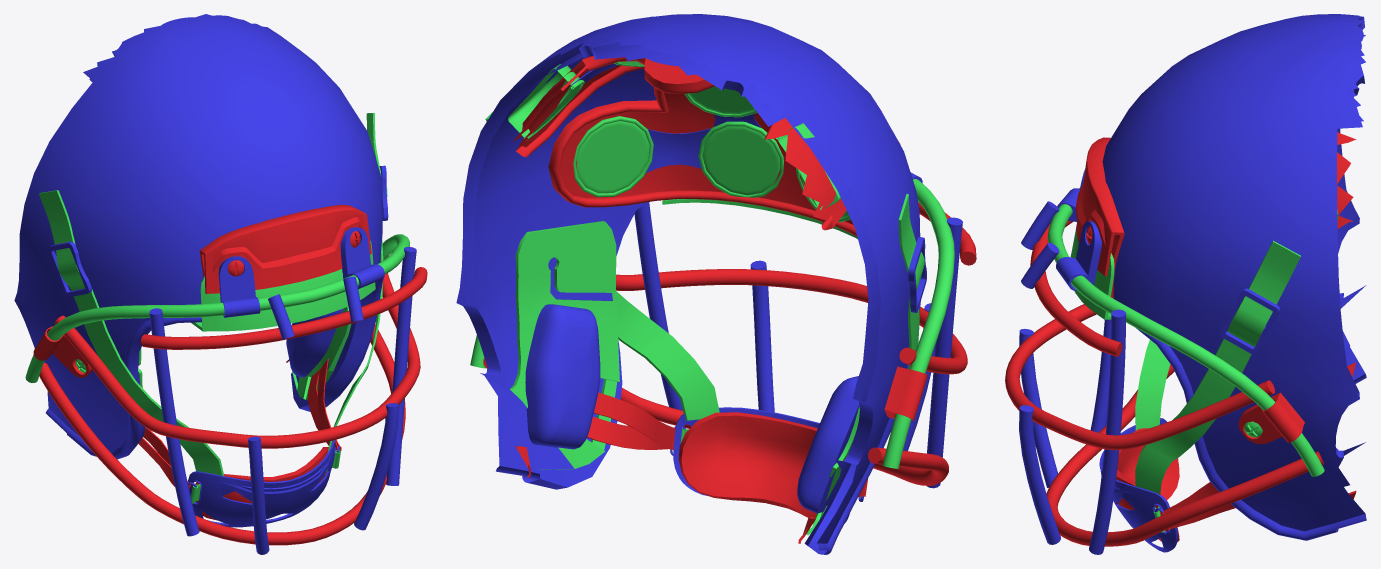
3 renders of one model, left to right at view 1: azimuth 30°, elevation 25°; view 2: azimuth 150°, elevation 25°; view 3: azimuth 270°, elevation 25°, orthographic. The views are drawn at different scales.
Parts seen in each view (by area): view 1: Helmet_UV01_low, Helmet_UV03_low, Helmet_UV02_low; view 2: Helmet_UV01_low, Helmet_UV03_low, Helmet_UV02_low; view 3: Helmet_UV01_low, Helmet_UV03_low, Helmet_UV02_low.
Part boxes in pixels (bbox=[...]): Helmet_UV01_low: bbox=[14, 14, 416, 554]; Helmet_UV03_low: bbox=[33, 205, 427, 545]; Helmet_UV02_low: bbox=[25, 113, 409, 503]; Helmet_UV01_low: bbox=[456, 14, 962, 554]; Helmet_UV03_low: bbox=[483, 56, 976, 543]; Helmet_UV02_low: bbox=[470, 61, 954, 535]; Helmet_UV01_low: bbox=[1019, 14, 1366, 554]; Helmet_UV03_low: bbox=[1005, 132, 1356, 546]; Helmet_UV02_low: bbox=[1047, 188, 1338, 532].
Bounding box in the file's own units: 3.64 × 4.39 × 2.92.
